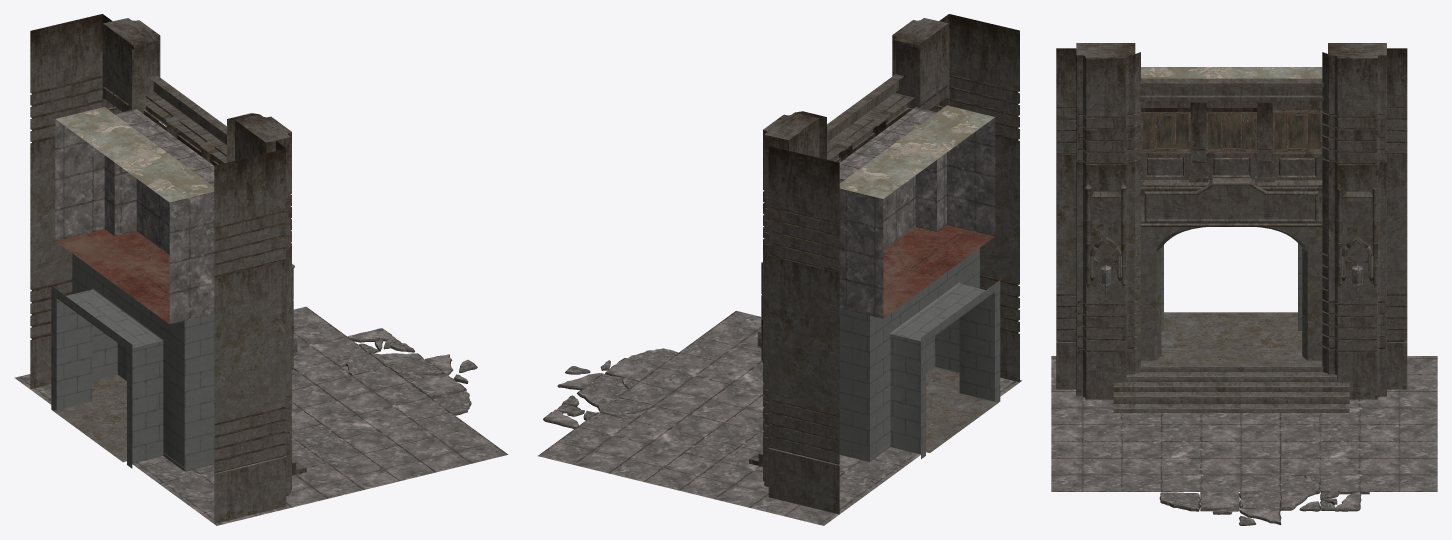
File: Builiding02.fbx
3 views of the same model, side by side, from view 1: azimuth 30°, elevation 25°; view 2: azimuth 150°, elevation 25°; view 3: azimuth 270°, elevation 25° (orthographic). The views are drawn at different scales.
Parts seen in each view (by area): view 1: SM_WAL_EscapeFacade01_Entrance.mo; view 2: SM_WAL_EscapeFacade01_Entrance.mo; view 3: SM_WAL_EscapeFacade01_Entrance.mo.
Part boxes in pixels (<box>): SM_WAL_EscapeFacade01_Entrance.mo: <box>14,14,508,525</box>; SM_WAL_EscapeFacade01_Entrance.mo: <box>538,14,1021,525</box>; SM_WAL_EscapeFacade01_Entrance.mo: <box>1051,43,1437,525</box>.
Bounding box in the file's own units: 1474 × 1296 × 1307.
